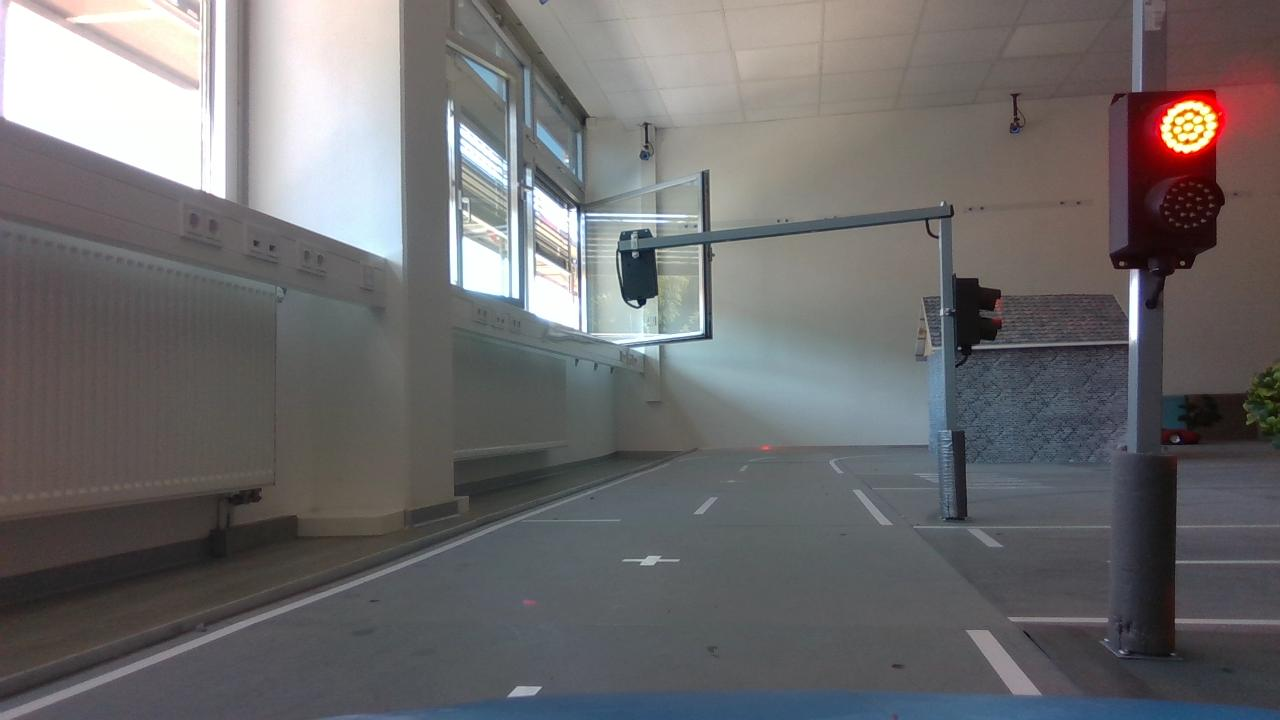traffic_light_red: (1088, 77, 1238, 283)
